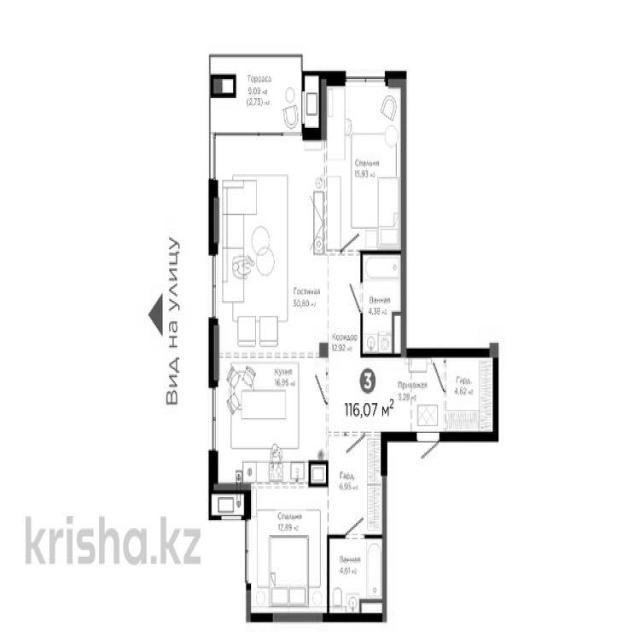balcony: (207, 58, 302, 136)
bathroom: (329, 537, 385, 619), (363, 250, 405, 355)
hallway: (362, 359, 446, 436), (328, 253, 361, 432)
kitchen: (215, 354, 328, 486)
living_room: (211, 134, 323, 353), (324, 77, 404, 252), (250, 485, 328, 617)
other: (326, 434, 385, 538), (446, 356, 494, 436)
